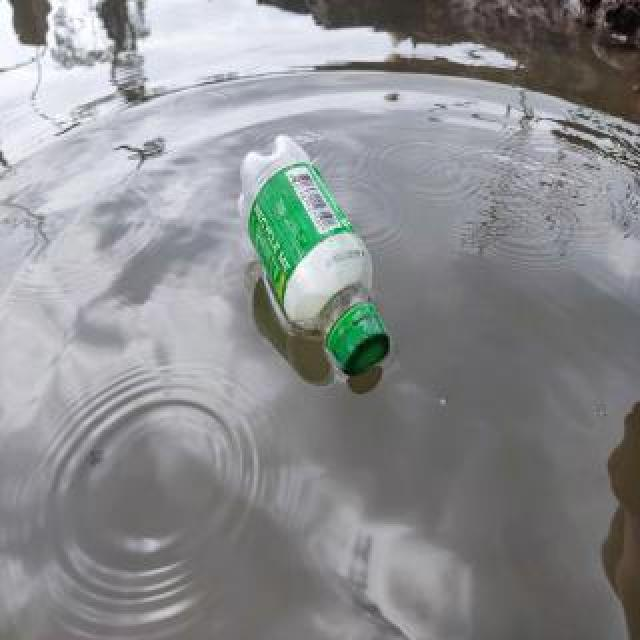bottle: (234, 130, 394, 384)
